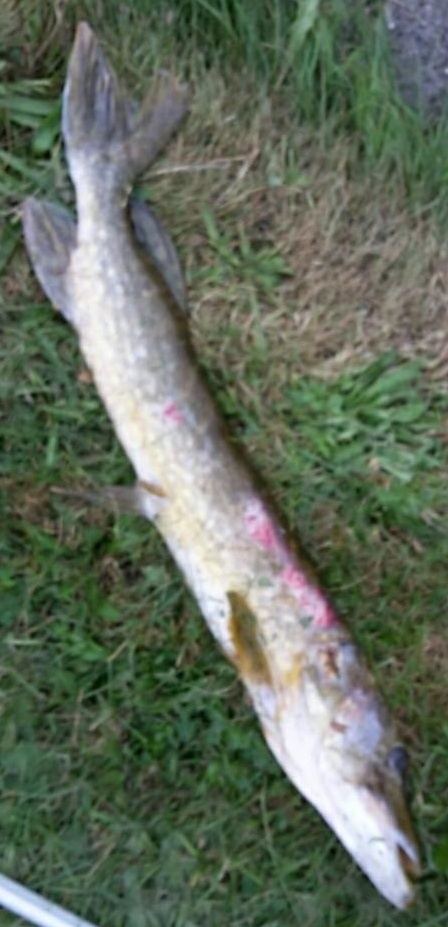Esox lucius: (20, 20, 428, 907)
